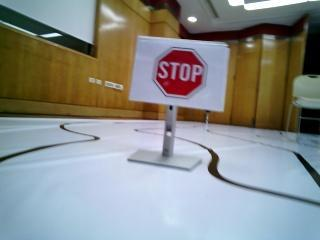stop: (146, 39, 213, 100)
